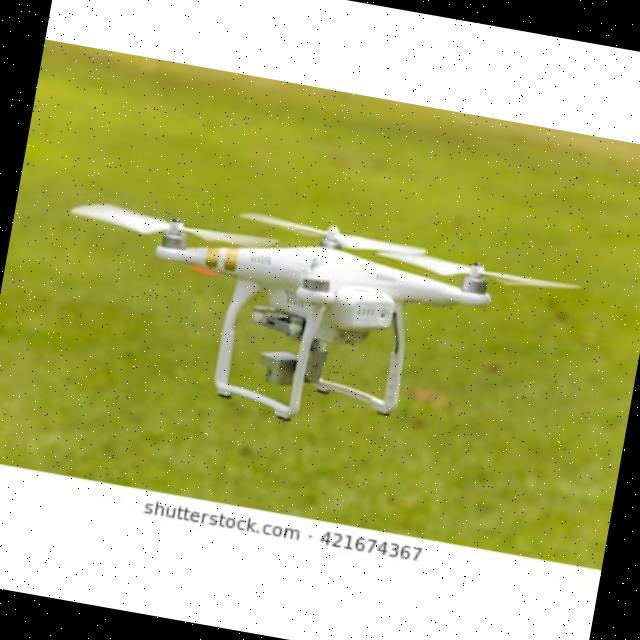Drones: (97, 190, 552, 478)
